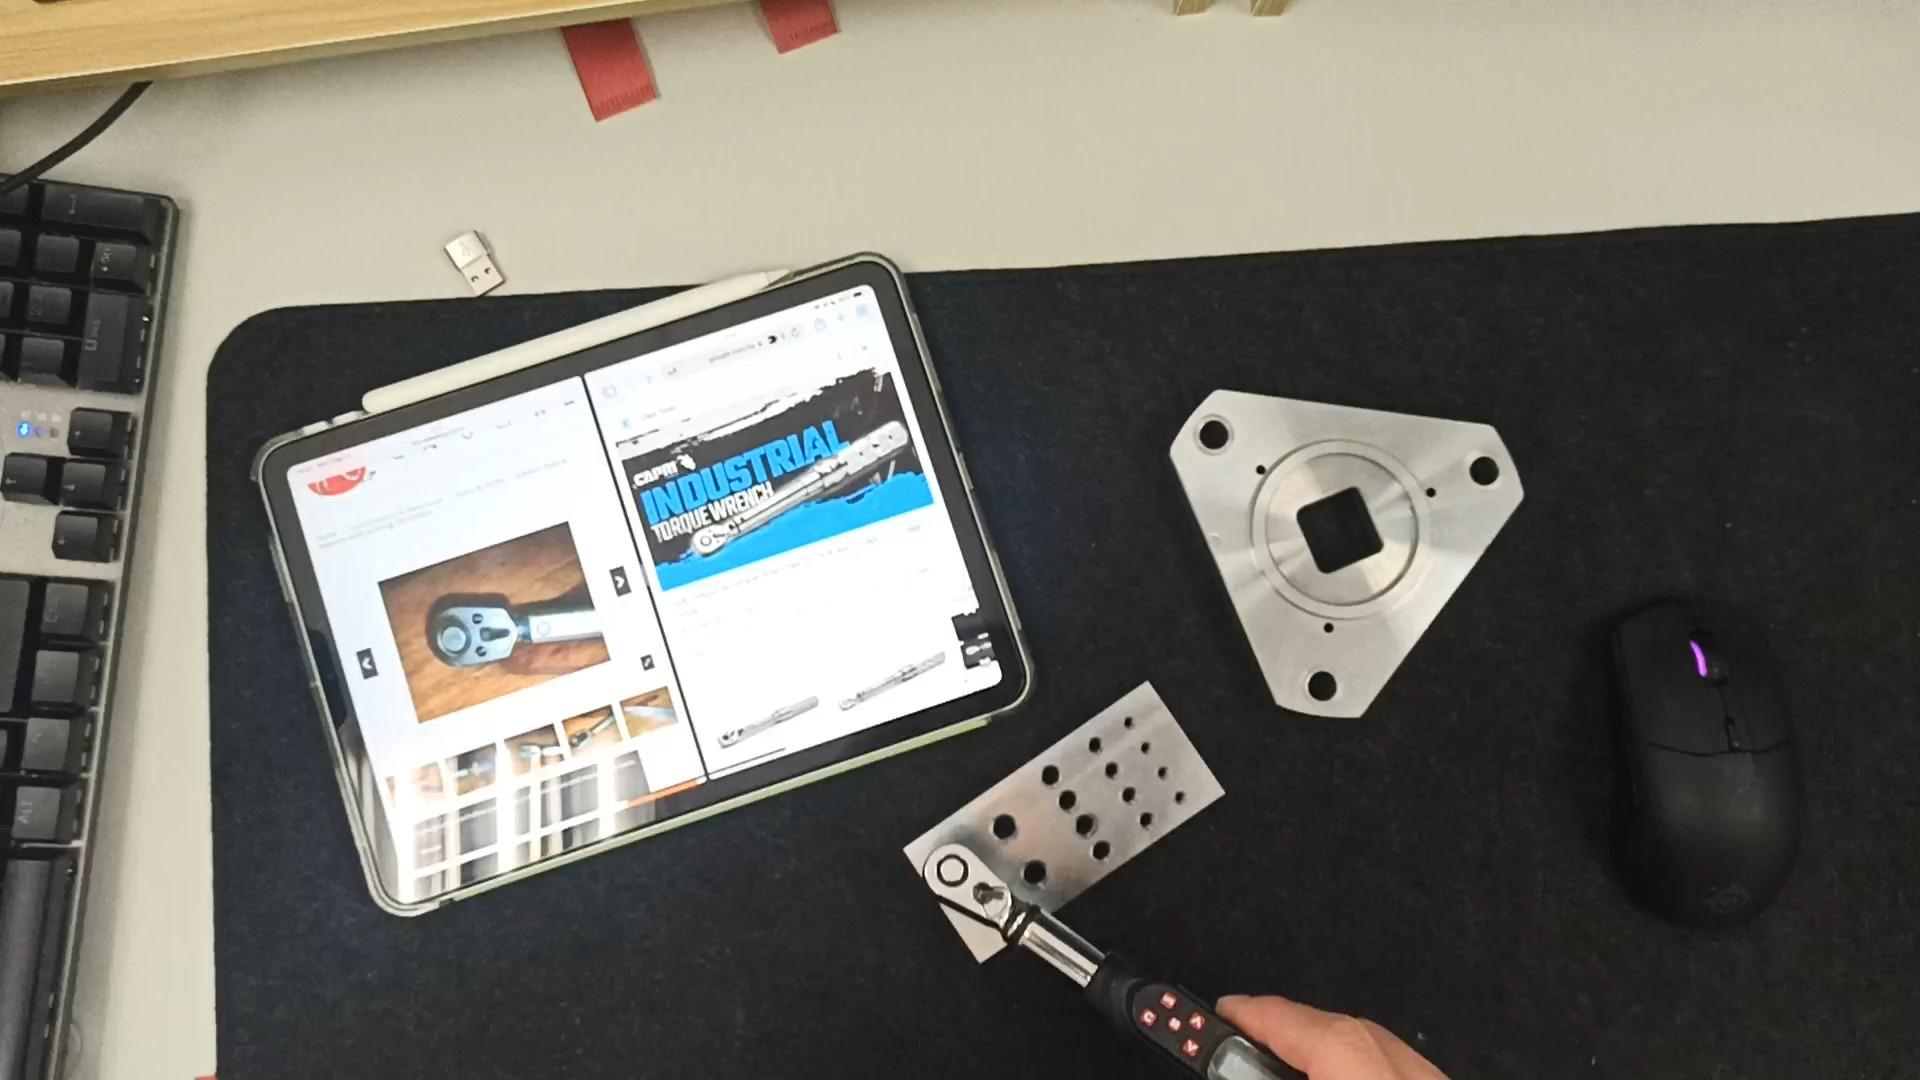Tool: (925, 843, 1021, 929), (419, 604, 517, 674), (685, 519, 735, 564)
hole: (1280, 668, 1349, 714), (1443, 453, 1512, 497), (1178, 418, 1237, 462), (978, 814, 1035, 851), (1019, 864, 1070, 899), (1030, 763, 1076, 793), (1074, 817, 1121, 844), (1049, 793, 1093, 821), (1089, 844, 1134, 870), (1082, 738, 1123, 763), (1135, 815, 1171, 836), (1152, 765, 1187, 785), (1103, 766, 1138, 786), (1121, 793, 1156, 812), (1136, 742, 1170, 761), (1175, 794, 1207, 812), (1123, 709, 1140, 736)
